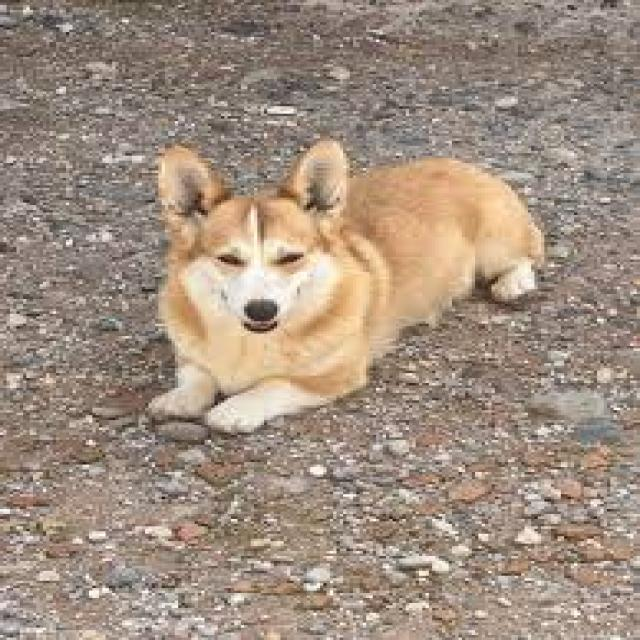CORGI: (137, 132, 565, 432)
